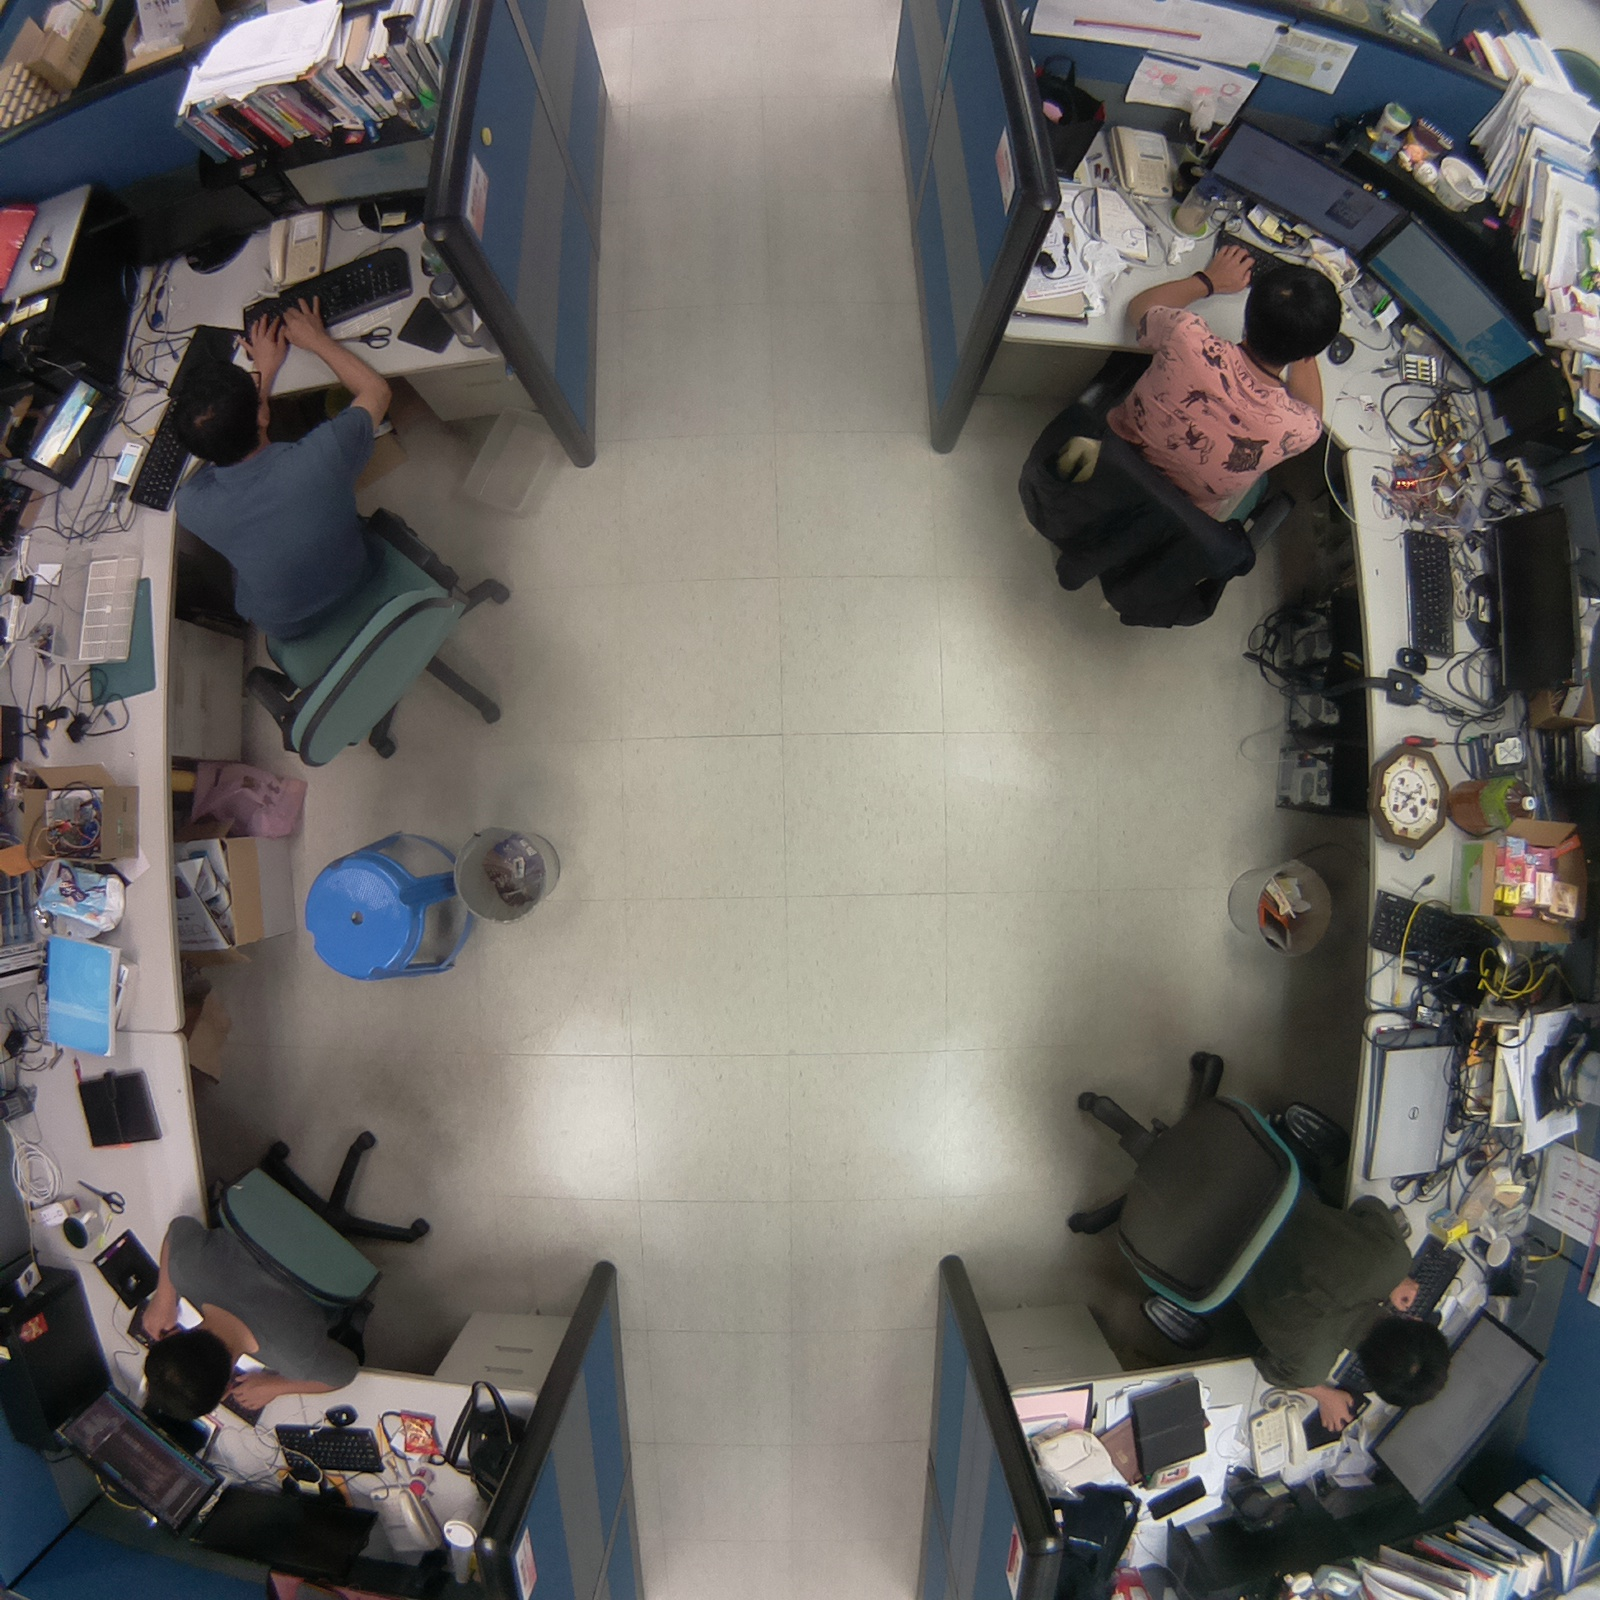head: (160, 355, 278, 455), (1241, 257, 1350, 363), (1358, 1310, 1460, 1416), (137, 1327, 239, 1427)
sitting: (140, 300, 529, 788), (1047, 1032, 1464, 1432), (1006, 227, 1338, 647), (113, 1101, 440, 1429)
